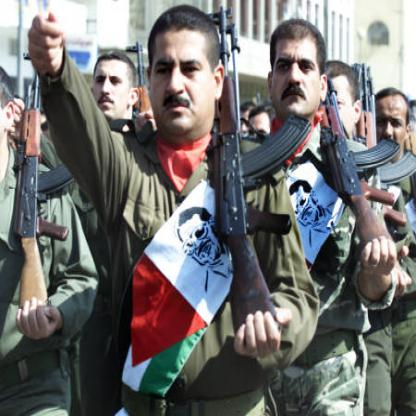face: (146, 10, 217, 135), (270, 22, 325, 119), (93, 51, 133, 121), (375, 90, 410, 156)
